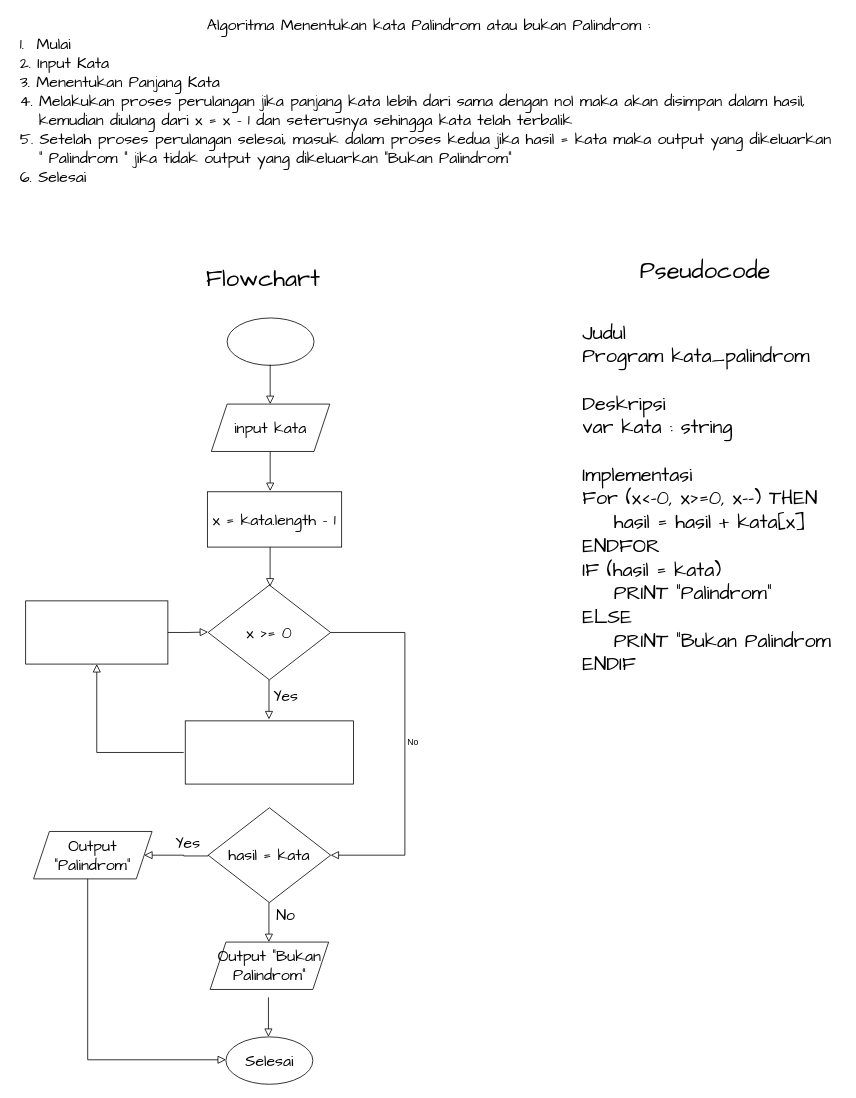
Some shapes in this 856 by 1098 pixel diagram are drawn without their labels. Each missing label, with the centre of its shape:
"hasil = hasil + kata[x]" belongs at pixel 269 752.
"Mulai" belongs at pixel 270 341.
"x = x - 1" belongs at pixel 96 632.
